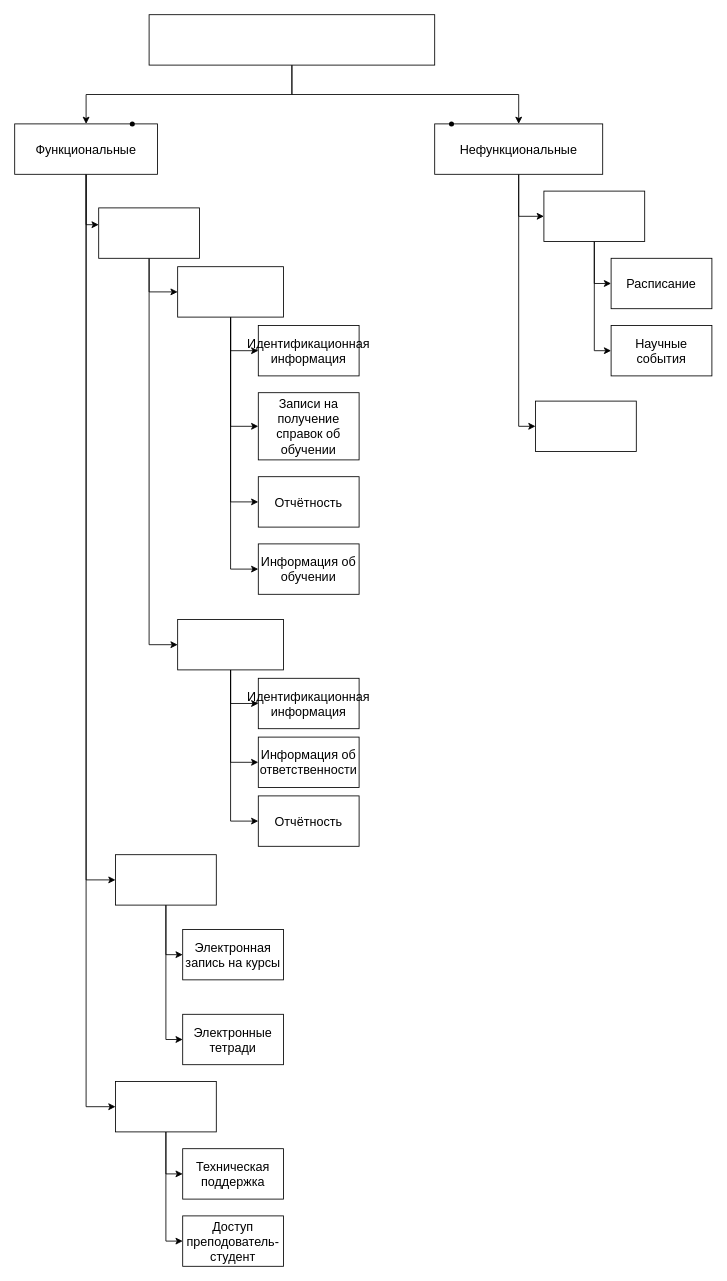
This 727x1281 diagram has some shape labels left out. Each missing label, with the centre of its shape:
"Валидность маршрутизации" belongs at (x=165, y=879).
"Календарь" belongs at (x=594, y=216).
"Профили Сотрудников" belongs at (x=230, y=644).
"Профили студентов" belongs at (x=230, y=291).
"Средства связи" belongs at (x=165, y=1106).
"Требование к производительности" belongs at (x=585, y=426).
"Требования к центру дистанционного обучения Mирэа" belongs at (x=291, y=39).
"Электронные профили" belongs at (x=149, y=232).
